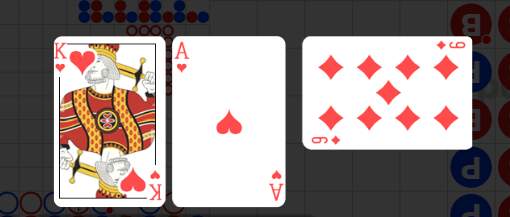9D: (435, 40, 466, 51)
AH: (267, 167, 284, 201)
KH: (54, 41, 67, 74)
